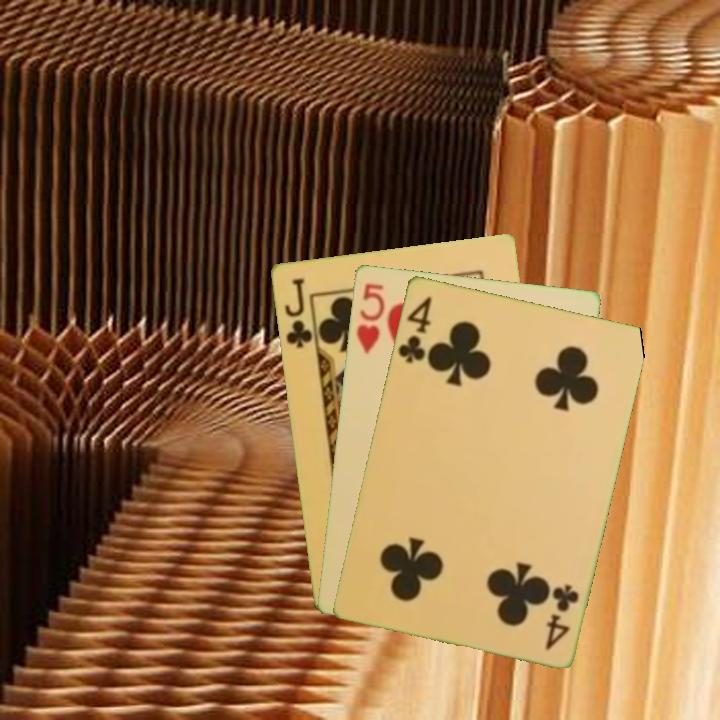4c: (541, 580, 582, 653), (394, 292, 434, 366)
5h: (352, 279, 388, 356)
Jc: (280, 274, 315, 351)
